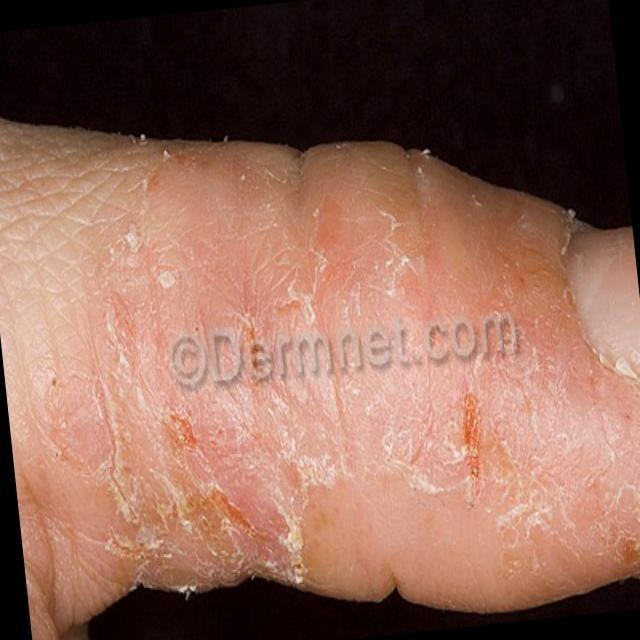Eczema: (52, 122, 634, 624)
